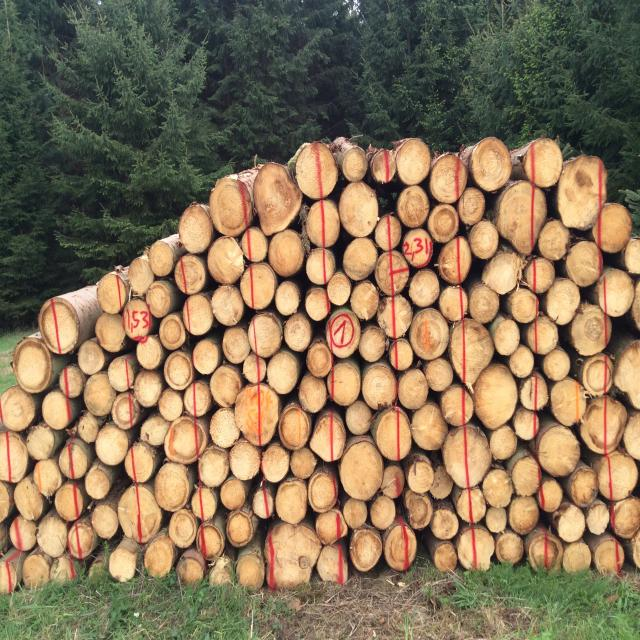wood-log: (556, 158, 607, 232), (252, 166, 304, 238), (500, 183, 548, 256), (265, 523, 319, 587), (440, 427, 490, 490), (447, 319, 492, 386), (473, 364, 518, 428), (578, 396, 626, 455), (340, 436, 384, 499), (234, 384, 278, 447), (116, 484, 162, 543), (292, 144, 338, 202), (208, 177, 250, 237), (537, 424, 581, 477), (372, 406, 413, 460), (338, 183, 378, 238), (594, 450, 638, 500), (41, 297, 80, 353), (409, 309, 450, 362), (471, 136, 511, 190), (568, 306, 608, 358), (593, 202, 634, 252), (309, 409, 348, 461), (153, 464, 194, 513), (524, 139, 564, 189), (15, 337, 52, 391), (409, 400, 448, 451), (431, 152, 469, 204), (597, 268, 635, 316), (209, 237, 248, 283), (614, 342, 640, 411), (565, 241, 603, 288), (240, 262, 278, 309), (178, 205, 214, 254), (307, 198, 342, 247), (458, 524, 496, 569), (546, 277, 582, 324), (269, 230, 305, 277), (550, 378, 585, 426), (438, 238, 473, 286), (484, 252, 522, 296), (384, 517, 416, 569), (375, 252, 411, 298), (360, 363, 396, 409), (0, 384, 36, 430), (396, 140, 432, 186), (327, 312, 361, 360), (95, 422, 132, 466), (248, 313, 283, 359), (329, 360, 364, 406), (529, 527, 564, 573), (377, 296, 414, 338), (166, 416, 198, 464), (84, 371, 117, 417), (279, 404, 312, 450), (266, 349, 300, 393), (96, 269, 130, 313), (0, 428, 29, 479), (275, 478, 307, 524), (344, 238, 379, 280), (209, 365, 242, 409), (127, 440, 160, 484), (146, 531, 176, 578), (349, 528, 381, 572), (14, 476, 46, 520), (537, 220, 571, 261), (399, 186, 432, 228), (229, 439, 261, 482), (580, 397, 605, 452), (212, 286, 245, 327), (55, 481, 88, 522), (308, 468, 338, 513), (37, 513, 68, 556), (397, 366, 428, 409), (593, 535, 624, 578), (525, 317, 559, 356), (482, 468, 515, 508), (174, 255, 206, 296), (184, 294, 215, 336), (123, 298, 154, 340), (409, 269, 442, 308), (198, 446, 230, 486), (402, 229, 434, 269), (317, 542, 349, 582), (236, 548, 266, 590), (441, 383, 470, 426), (469, 220, 500, 260), (512, 457, 543, 497), (453, 486, 486, 523), (26, 424, 58, 462), (208, 408, 239, 447), (470, 282, 500, 322), (350, 280, 380, 320), (96, 312, 126, 352), (569, 464, 599, 504), (404, 489, 434, 529), (520, 370, 550, 410), (298, 374, 329, 412), (509, 497, 540, 535), (175, 550, 206, 588), (612, 497, 640, 539), (110, 542, 140, 581), (341, 143, 370, 183), (508, 288, 540, 324), (32, 459, 62, 497), (164, 351, 193, 390), (169, 510, 198, 549), (283, 313, 312, 352), (493, 316, 522, 355), (113, 390, 142, 429), (44, 389, 72, 429), (193, 336, 221, 376), (128, 256, 156, 296), (360, 326, 390, 363), (263, 444, 291, 483), (134, 369, 163, 406), (184, 379, 213, 416), (582, 356, 608, 397), (23, 552, 51, 590), (8, 516, 38, 551), (425, 358, 455, 393), (316, 509, 345, 545), (526, 257, 555, 293), (224, 326, 252, 363), (375, 215, 403, 252), (457, 186, 484, 224), (79, 339, 108, 374), (489, 426, 518, 461), (557, 506, 585, 542), (241, 226, 269, 262), (345, 399, 372, 436), (432, 205, 459, 242), (498, 529, 525, 565), (407, 458, 434, 494), (227, 510, 253, 547), (147, 280, 173, 317), (542, 346, 571, 379), (538, 478, 564, 514), (160, 313, 186, 349), (430, 464, 456, 500), (92, 504, 118, 540), (193, 485, 219, 521), (440, 286, 466, 322), (143, 414, 172, 446), (86, 467, 114, 500), (370, 496, 397, 530), (563, 540, 590, 574), (221, 476, 248, 510), (150, 243, 177, 277), (137, 336, 163, 371), (291, 446, 319, 478), (512, 408, 540, 440), (433, 507, 460, 540), (308, 342, 334, 376), (306, 288, 332, 322), (380, 464, 405, 499), (275, 282, 300, 317), (61, 364, 86, 399), (328, 272, 353, 306), (622, 413, 640, 460), (509, 345, 535, 377), (307, 250, 330, 286), (586, 501, 610, 535), (160, 390, 186, 421), (388, 338, 413, 370), (342, 497, 367, 529), (433, 543, 458, 574), (252, 484, 274, 519), (242, 354, 266, 386), (200, 524, 222, 558), (79, 413, 103, 442), (624, 238, 640, 276), (485, 508, 507, 534), (0, 482, 11, 525), (632, 284, 640, 332), (632, 532, 640, 568)
